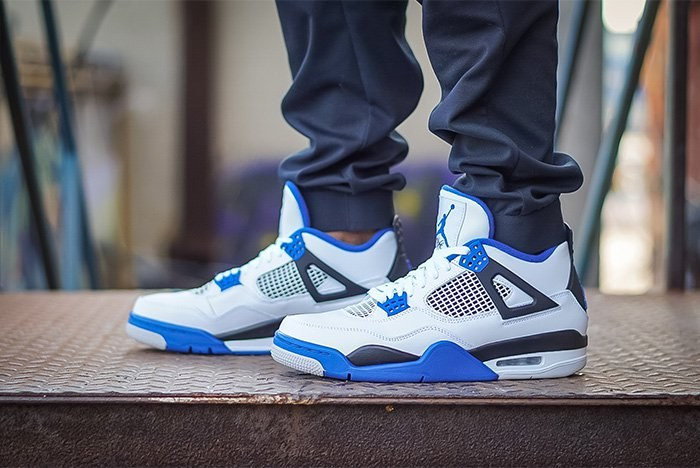Air Jordan 4 Motorsport: (266, 182, 601, 385), (121, 156, 414, 360)
